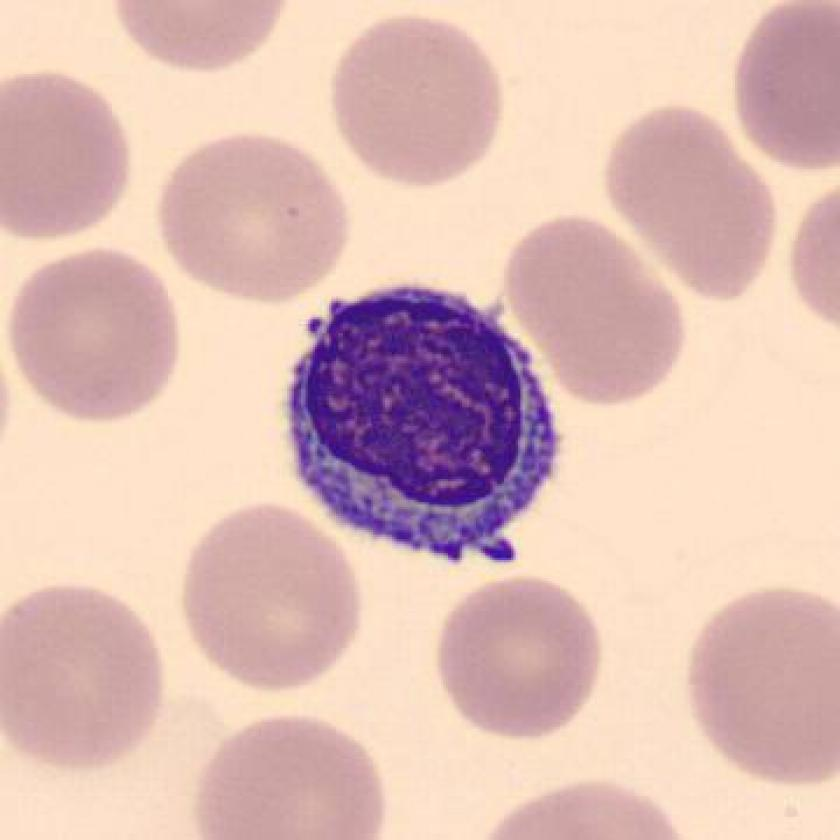lymphocyte: (258, 265, 598, 582)
